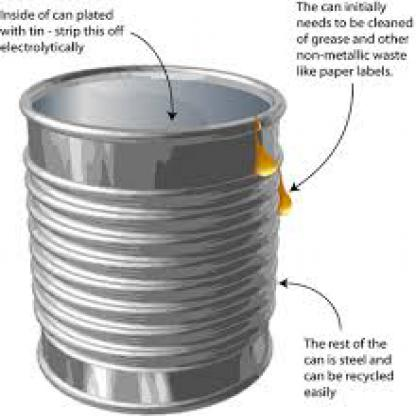METAL: (17, 65, 284, 410)
